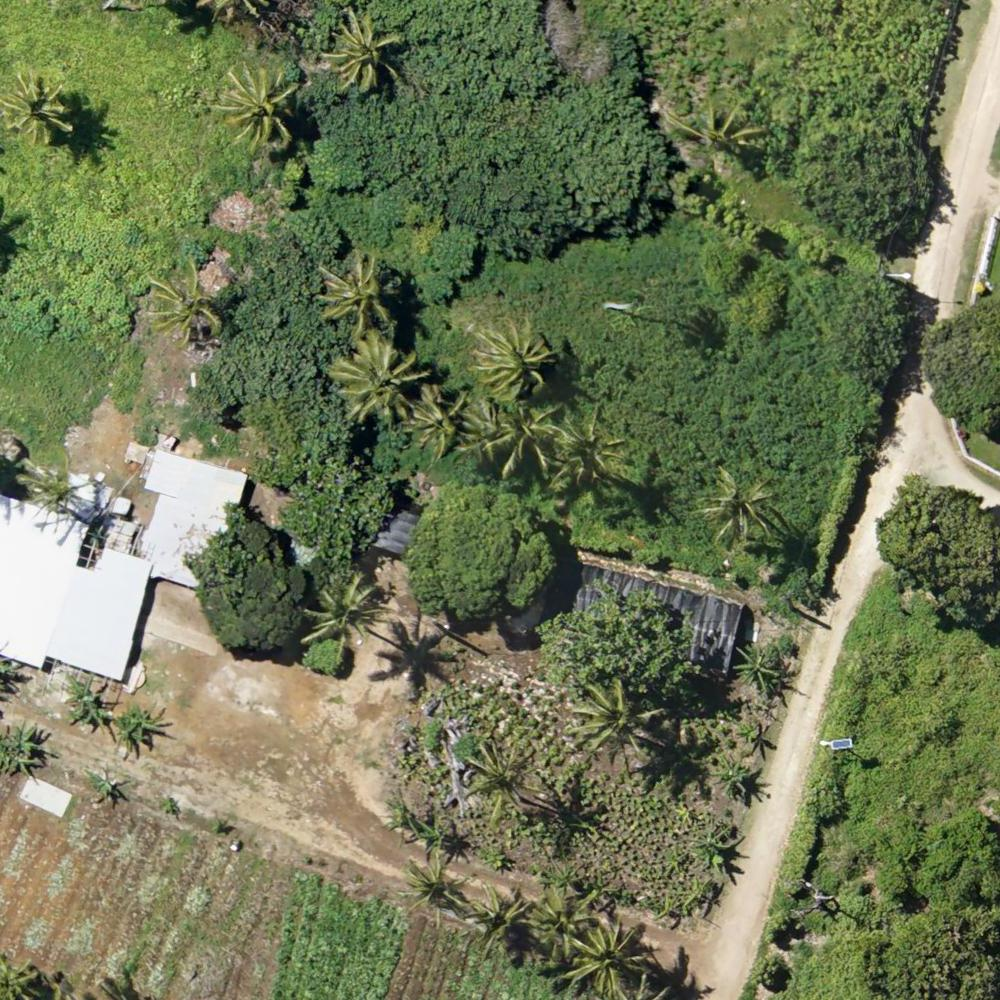Palm: (328, 339, 418, 423), (523, 882, 611, 963), (568, 681, 653, 761), (318, 251, 398, 333), (553, 407, 632, 489), (470, 319, 554, 396), (323, 12, 401, 94), (463, 739, 538, 822), (570, 922, 650, 998), (146, 261, 223, 339), (700, 466, 775, 542), (5, 72, 81, 145), (219, 66, 293, 139), (309, 571, 382, 645), (491, 396, 559, 473), (463, 879, 526, 961), (396, 858, 468, 926), (406, 389, 466, 456)
